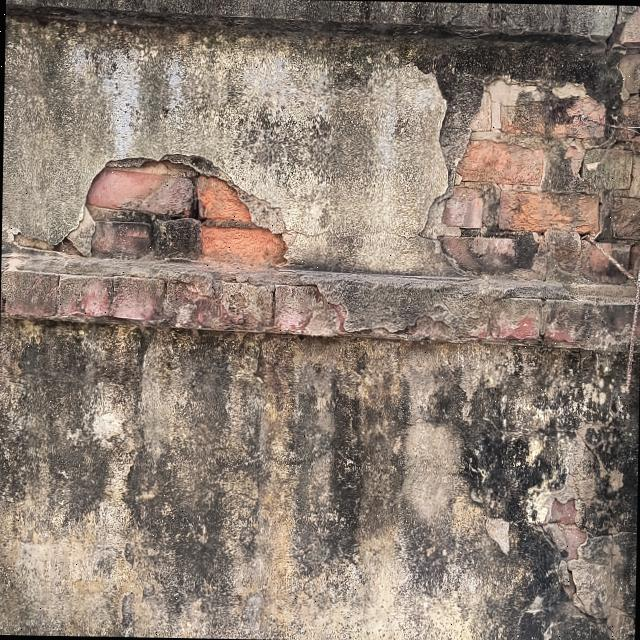Scaling: (1, 257, 636, 356), (425, 5, 640, 282), (14, 154, 291, 268), (528, 474, 590, 558)
pollution -moisture induced blackening: (0, 321, 639, 640), (2, 0, 640, 284)
